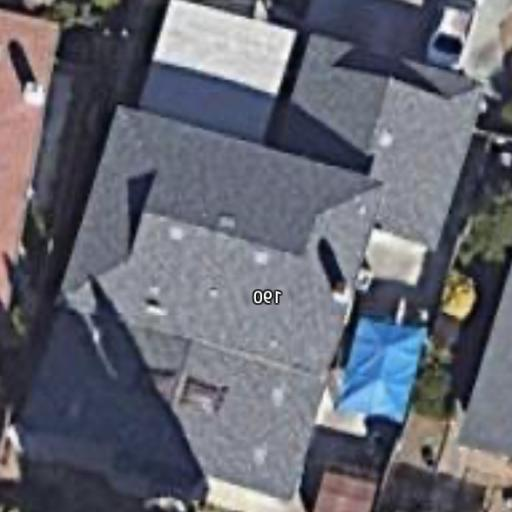Slope-Roof: (18, 35, 486, 502)
